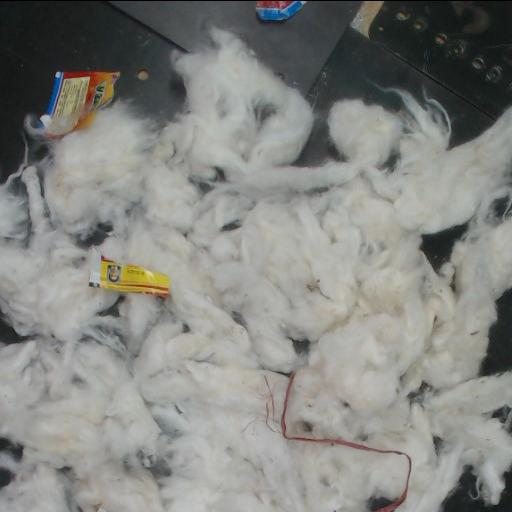conveyor belt: (0, 1, 511, 182), (444, 476, 511, 512), (483, 291, 511, 373), (297, 121, 335, 163), (423, 226, 463, 263), (0, 313, 25, 344), (0, 438, 21, 460), (0, 466, 12, 488)
cotton: (0, 28, 511, 512)
packet: (32, 72, 119, 139), (89, 247, 169, 296), (256, 1, 306, 20)
thread: (281, 372, 412, 512)
